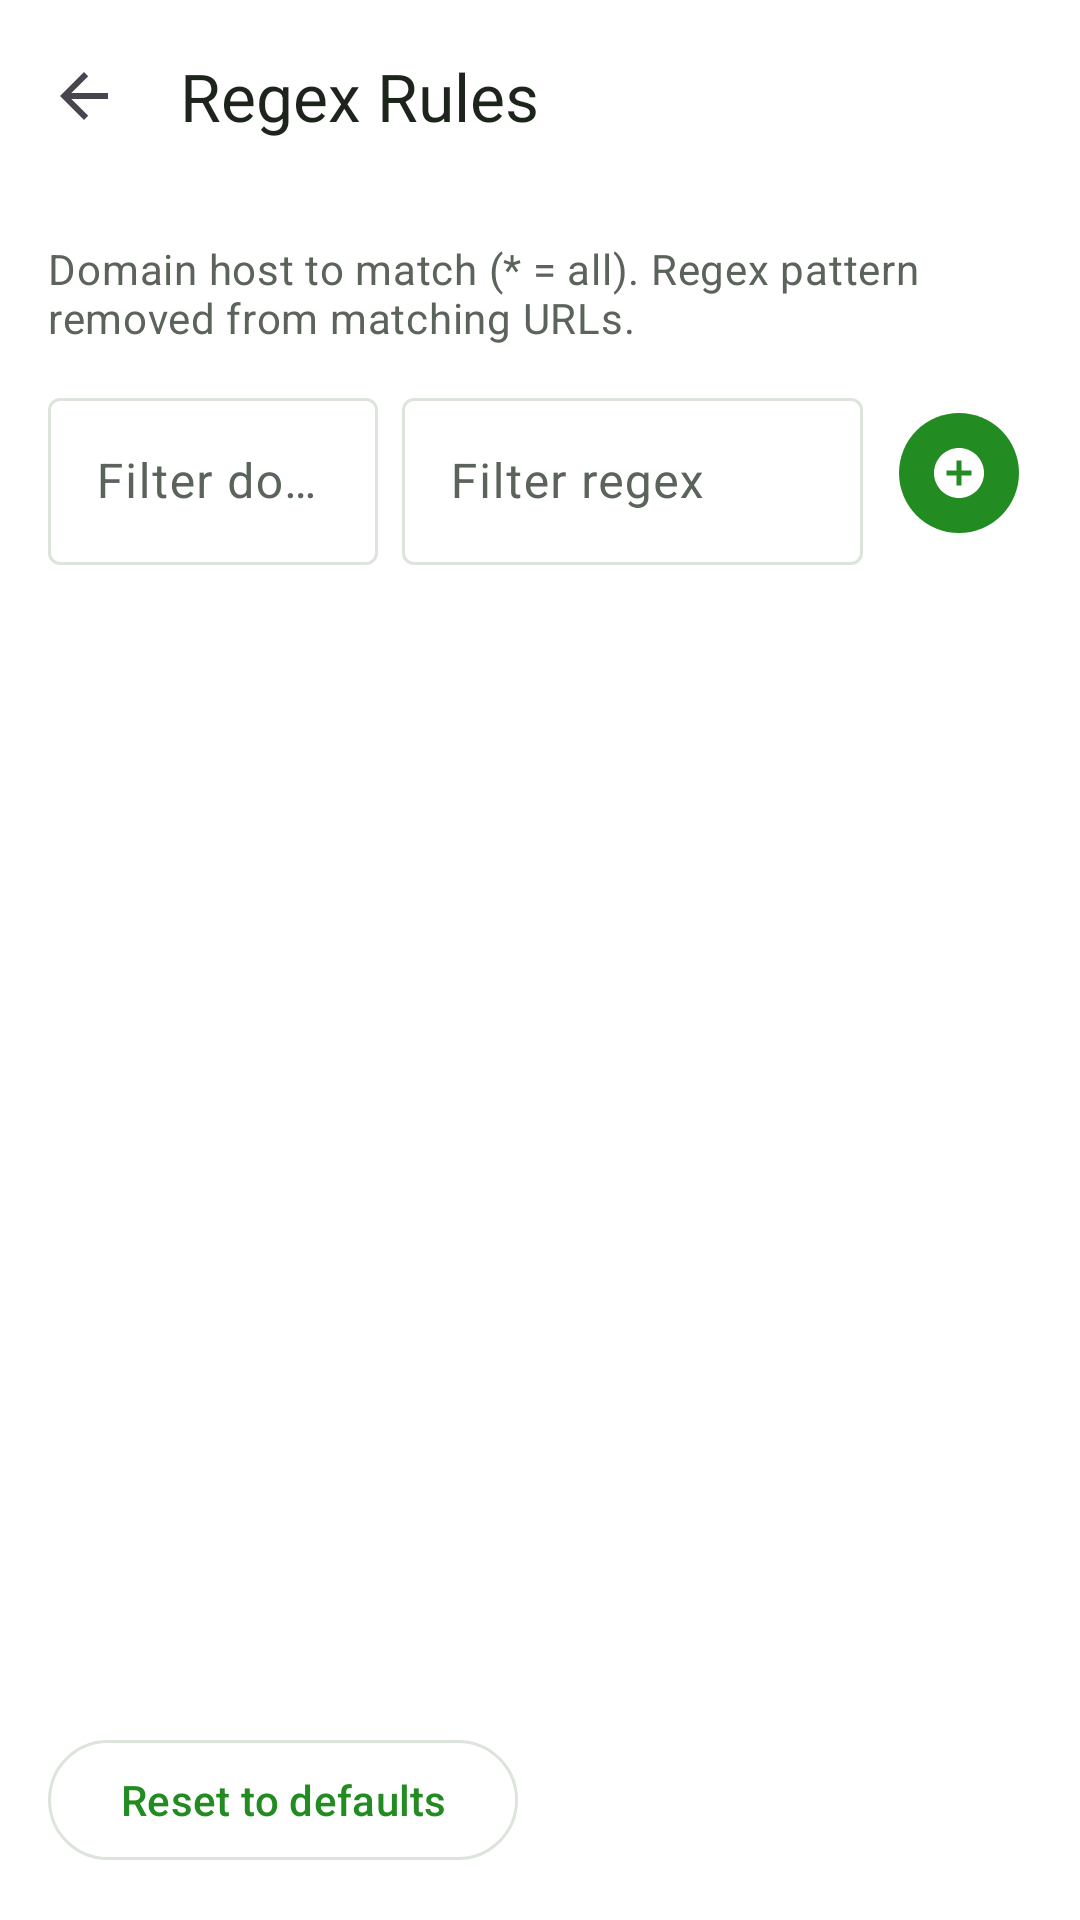

Point at icon controls on the screen. Image size 1080px x 1920px, points as point (x, y).
Add rule: point (959, 473)
